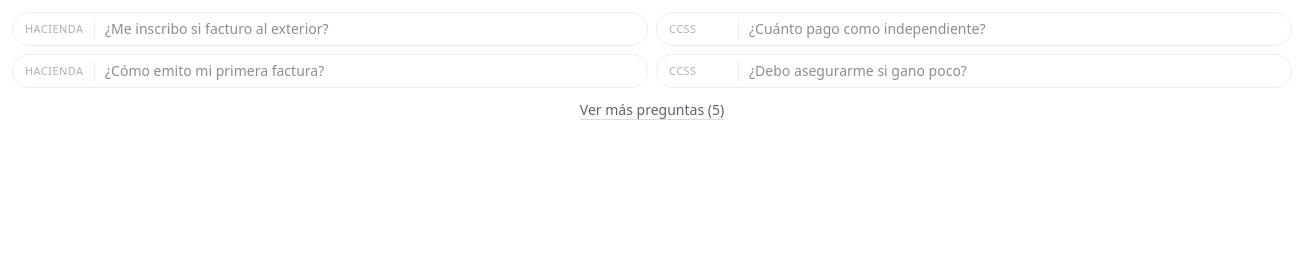
it: SeedPrompts › disables the questions, not the disclosure, while an ask is in flight
Expected: the button "Hacienda ¿Me inscribo si facturo al exterior?" is disabled, [12, 12, 648, 46]
Expected: the button "CCSS ¿Cuánto pago como independiente?" is disabled, [656, 12, 1292, 46]
Click the button "Ver más preguntas (5)".
click(652, 110)  # box [580, 100, 724, 120]
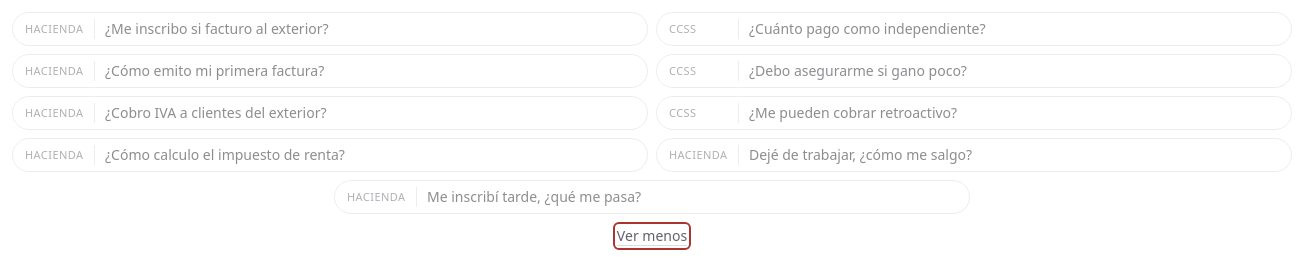
Now the button "Hacienda ¿Cobro IVA a clientes del exterior?" is disabled, box [12, 96, 648, 130]
Now the button "CCSS ¿Me pueden cobrar retroactivo?" is disabled, box [656, 96, 1292, 130]
Now the button "Hacienda ¿Cómo calculo el impuesto de renta?" is disabled, box [12, 138, 648, 172]
